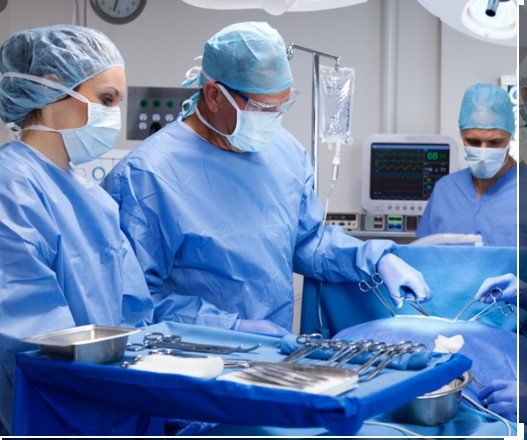face_with_mask: (4, 27, 124, 161), (194, 20, 297, 152), (457, 82, 515, 181)
